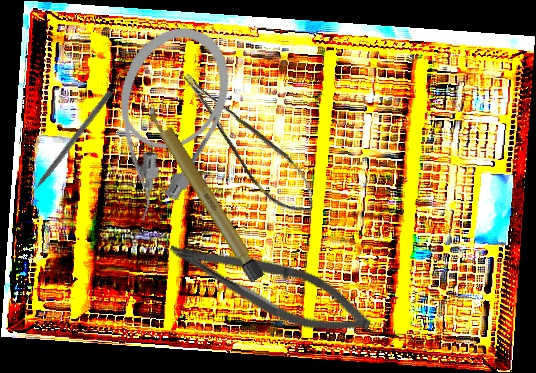Cannula: (80, 13, 246, 233)
Micro Scissor: (178, 52, 325, 230), (159, 229, 380, 347)
Pusher: (20, 88, 114, 206)
Scalpel Handle: (143, 101, 266, 284)
